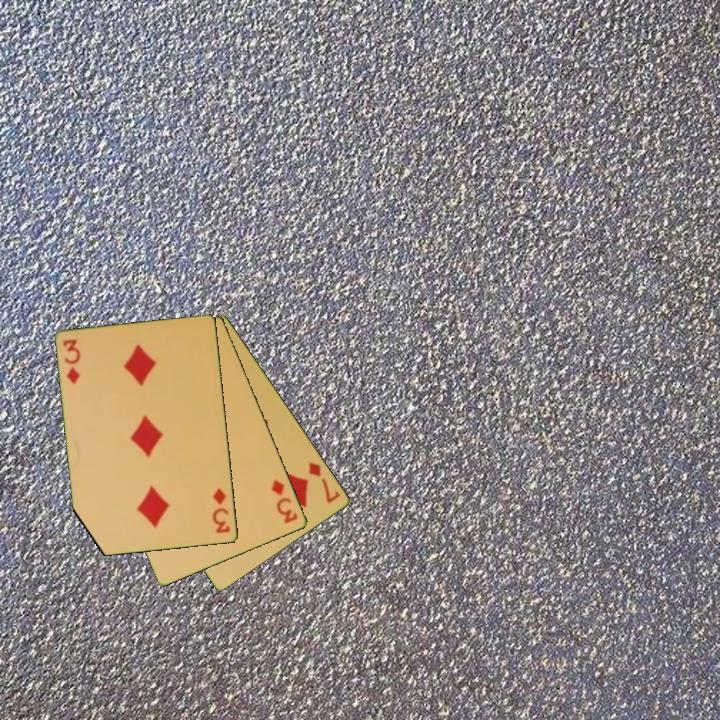3d: (268, 476, 301, 526), (209, 485, 233, 536), (60, 336, 83, 387)
7d: (305, 458, 343, 506)
